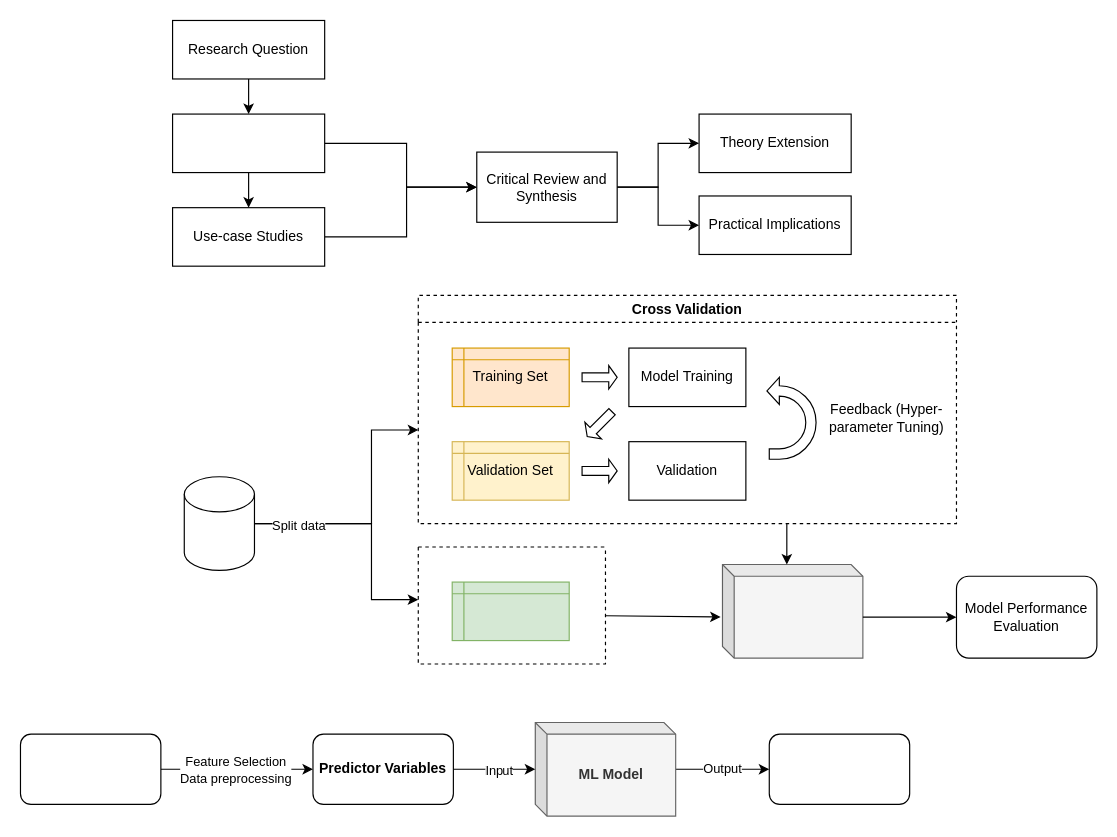
Image size: 1117x837. Some labels were removed from this diagram. Here are the shapes that lost their labels. From the top down, the centre of each, then its label:
At point (248, 143): "Systematic Literature Review".
At point (218, 523): "Enriched dataset".
At point (510, 611): "Testing Set".
At point (792, 610): "Final Model".
At point (90, 768): "Potential Predictor Variables (project characteristics)".
At point (839, 768): "Target Variables (project cost and duration variables)".
